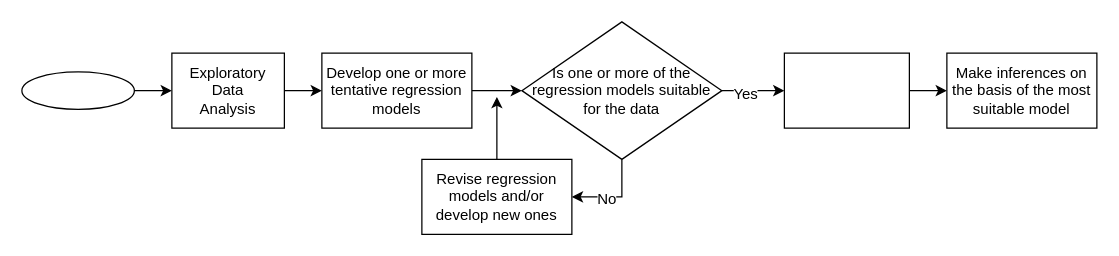
Image size: 1119x256. Some labels were removed from this diagram. Here are the shapes that lost their labels. From the top down, the box of each, then its label:
(21, 71, 134, 109): Start
(783, 52, 909, 128): Identify the most suitable model
